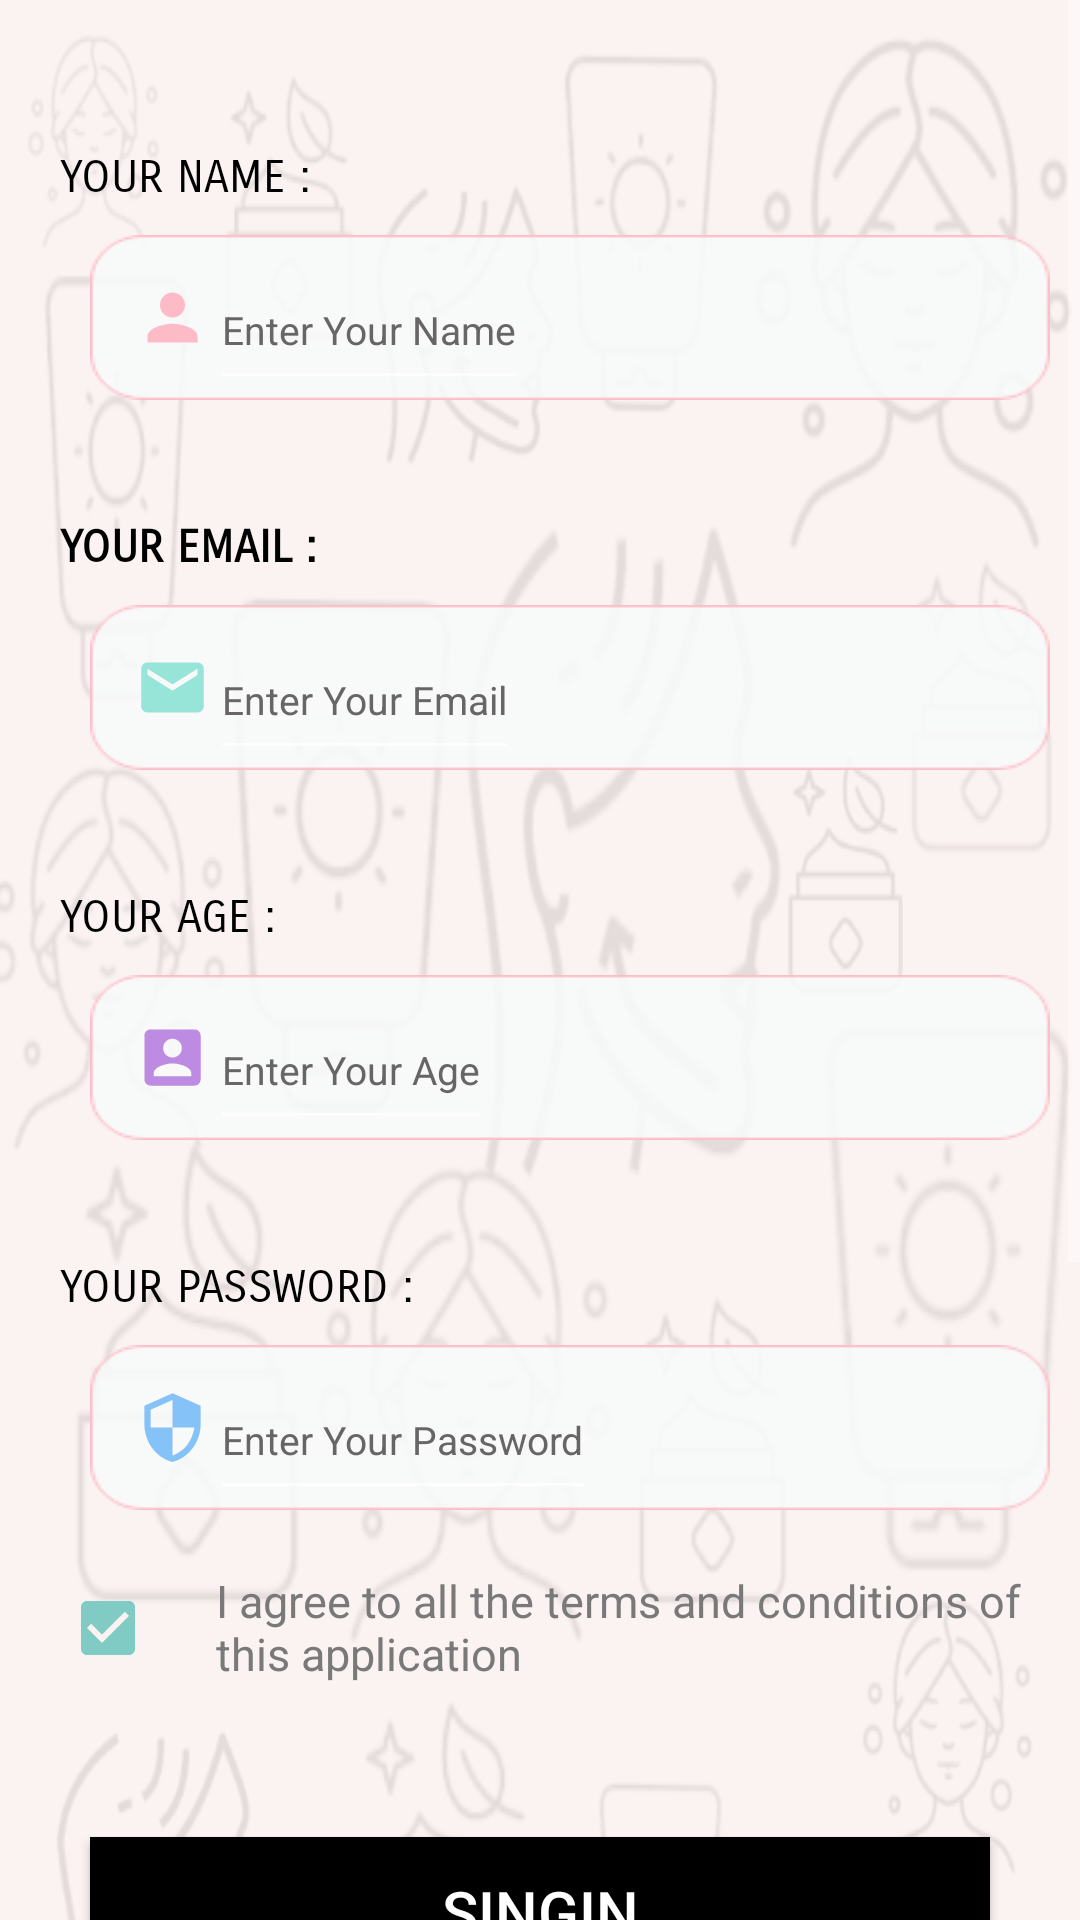

Point at icon controls on the screen. Image size 1080×1920, points as point (x, y).
person: point (172, 317)
